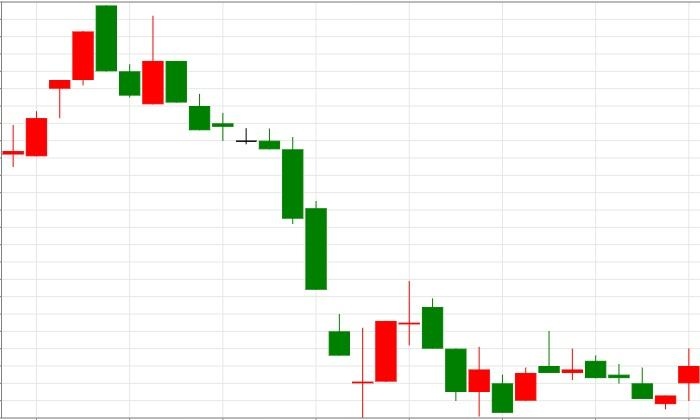morning_star_rise: (165, 61, 397, 418)
